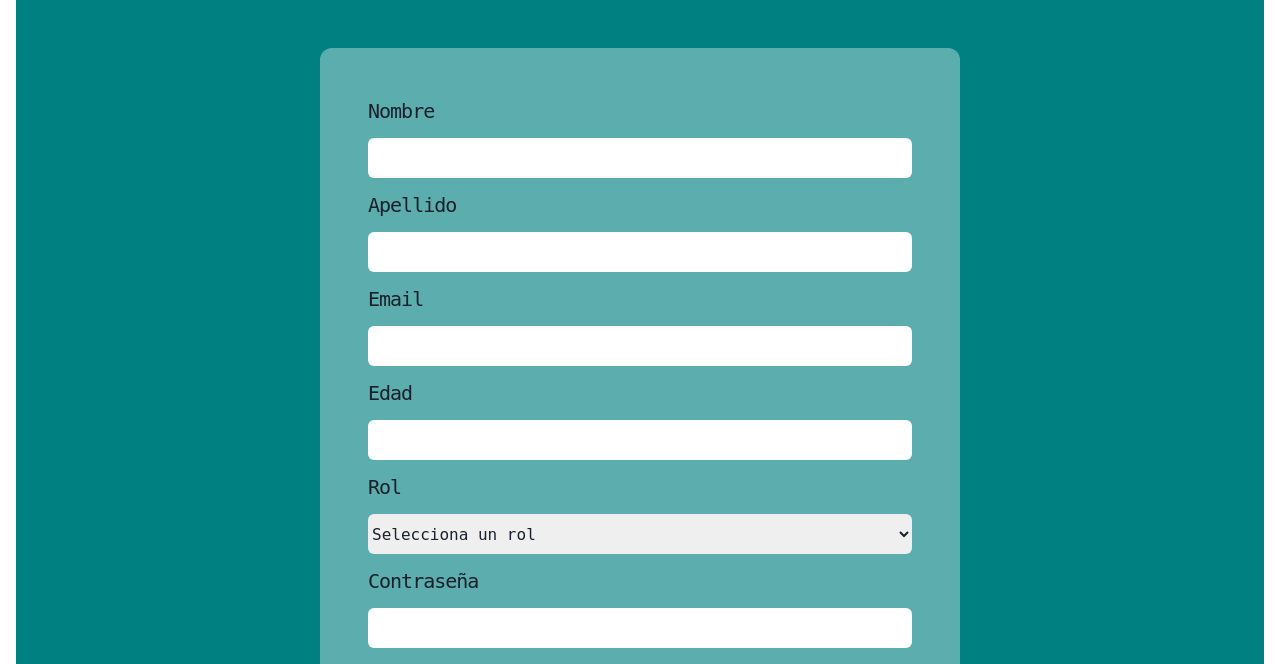
Scenario: register form › should show the role field error message
Select "0" in the dropdown with id "inputRole" at (640, 534), box [368,514,912,554]
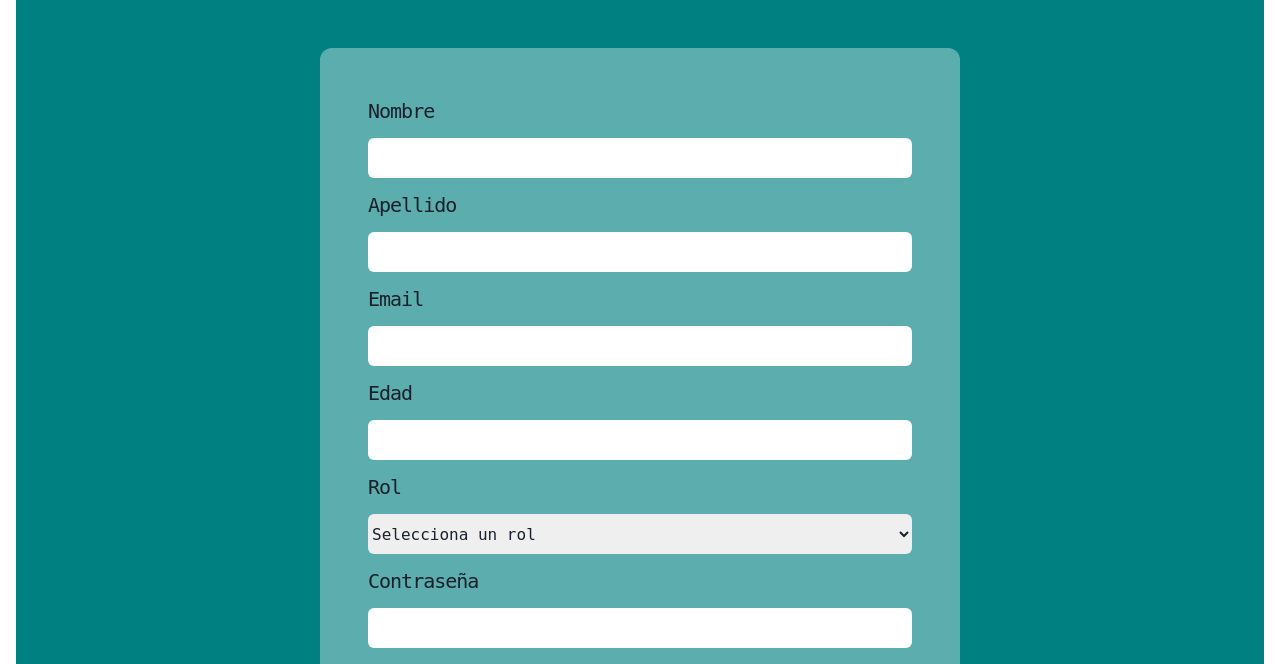
Click the label with id "nameLabel" at (401, 111), box [368,99,434,123]
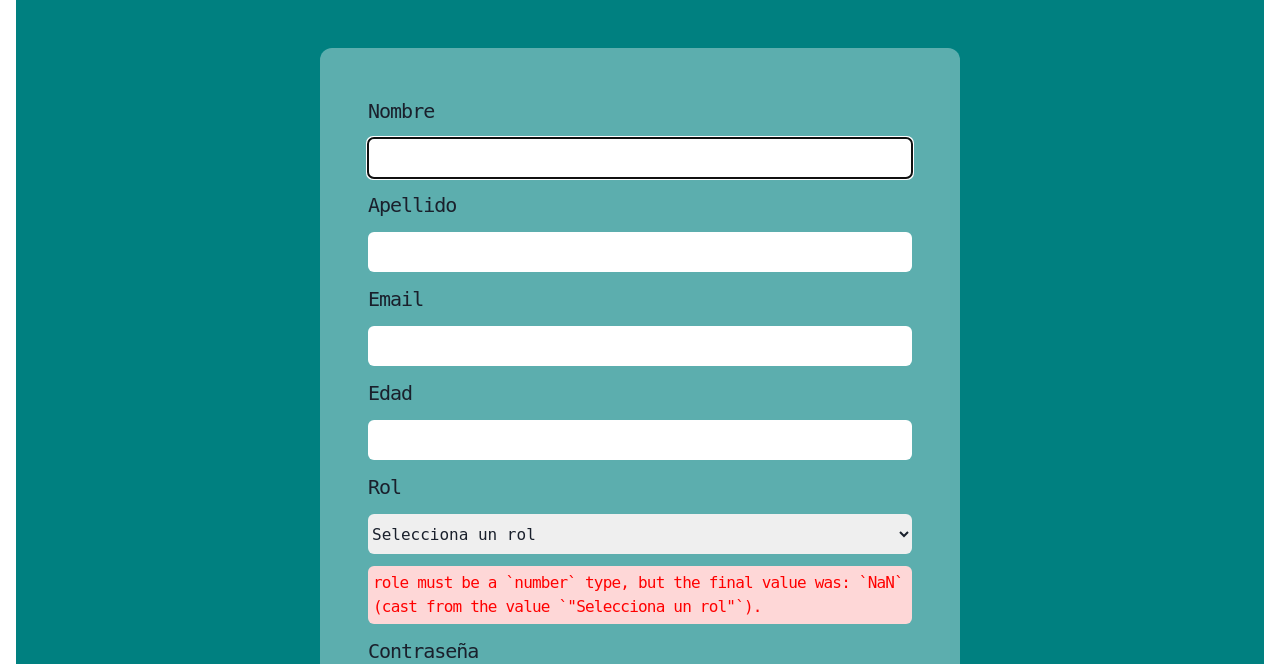
Now the text with id "inputError" is shown, box [368,566,912,624]
